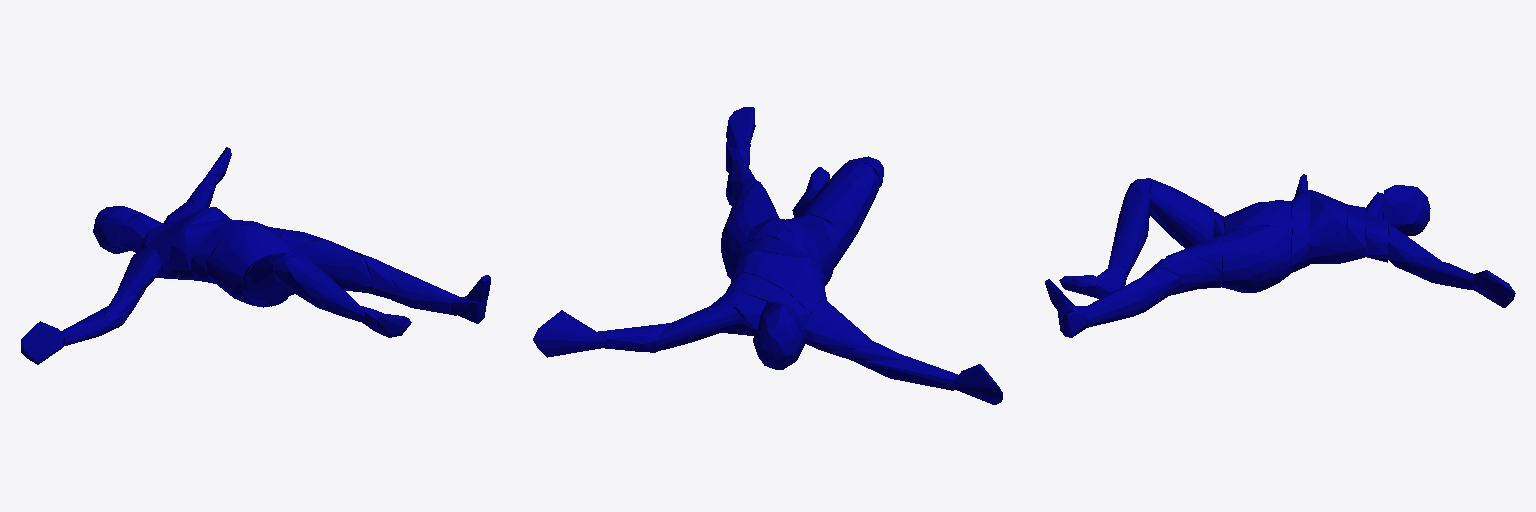
URDF robot description (human):
<?xml version="1.0" ?>
<robot name="human">

  <material name="off_yellow">
    <color rgba="1 0.95 0.051 1"/>
  </material>

  <material name="blue">
    <color rgba="0.05 0.05 0.6 1"/>
  </material>

  <link name="human">
    <inertial>
      <mass value="0"/>
      <origin rpy="0 0 0" xyz="0 0 0"/>
      <inertia ixx="0.01" ixy="0.0" ixz="0.0" iyy="0.01" iyz="0.0" izz="0.01"/>
    </inertial>
    <visual>
      <origin rpy="0 0 0" xyz="0 0 0"/>
      <geometry>
        <mesh filename="human_vhacd.obj" scale="0.1 0.1 0.1"/>
      </geometry>
      <material name="blue"/>
    </visual>
    <collision>
      <origin rpy="0 0 0" xyz="0 0 0"/>
      <geometry>
        <!--mesh filename="bed_mattress_vhacd.obj" scale="1.1 1.1 1.1"/-->
        <mesh filename="human_vhacd.obj" scale="0.1 0.1 0.1"/>
      </geometry>
    </collision>
  </link>
</robot>

--- Facts derived from the render (not from the file) ---
Views: 3 orthographic renders of the robot side by side, from view 1: azimuth 30°, elevation 25°; view 2: azimuth 150°, elevation 25°; view 3: azimuth 270°, elevation 25°.
Model human with 1 links and 0 joints (none), rooted at human, posed all joints at 0.
Links seen in each view (by area): view 1: human; view 2: human; view 3: human.
Link boxes in pixels (<box>): human: <box>21,147,490,364</box>; human: <box>533,107,1002,404</box>; human: <box>1045,174,1515,337</box>.
Bounding box of the posed robot: 0.1529 × 0.1688 × 0.0483 m (x, y, z).
1 mesh visuals loaded from 1 distinct referenced files (1 OBJ).